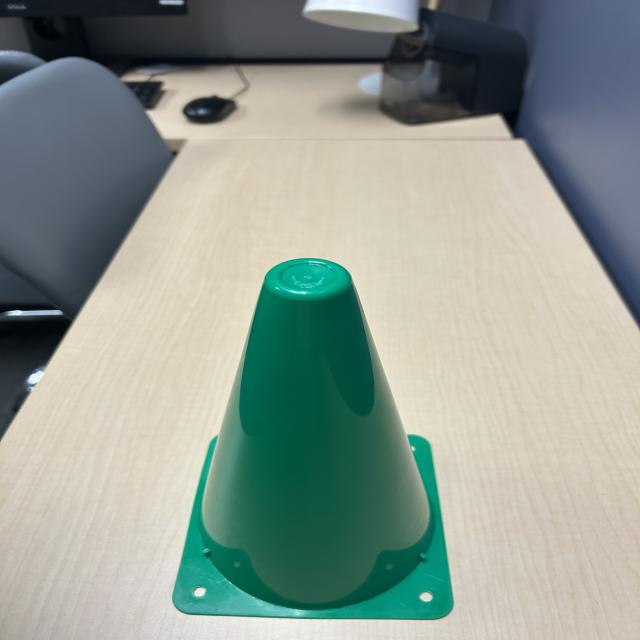green cone: (168, 252, 460, 626)
